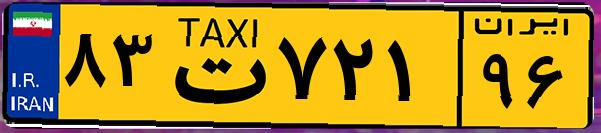1: (385, 28, 445, 110)
2: (330, 28, 385, 110)
3: (110, 28, 158, 98)
6: (525, 38, 570, 115)
7: (270, 28, 330, 110)
8: (57, 26, 110, 100)
9: (475, 38, 525, 113)
ت: (158, 12, 270, 120)
